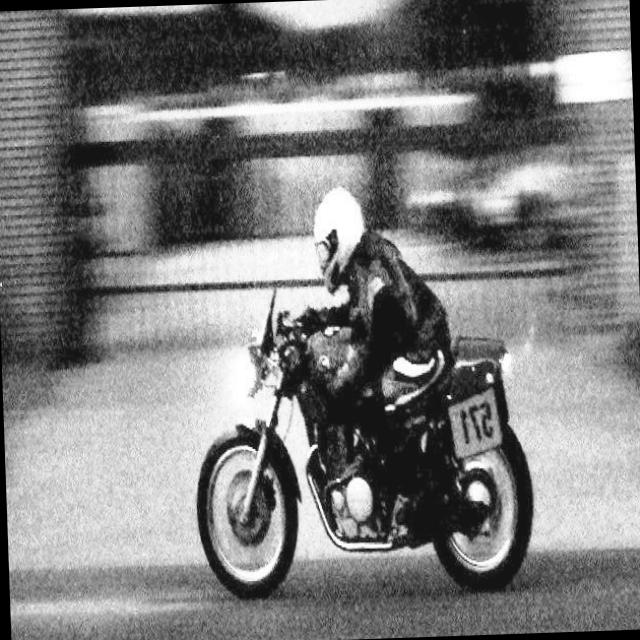Motorcycle: (180, 284, 532, 622)
